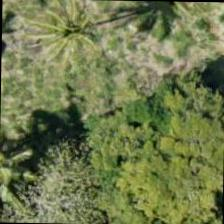Kelapa_Sawit: (23, 0, 115, 84)
